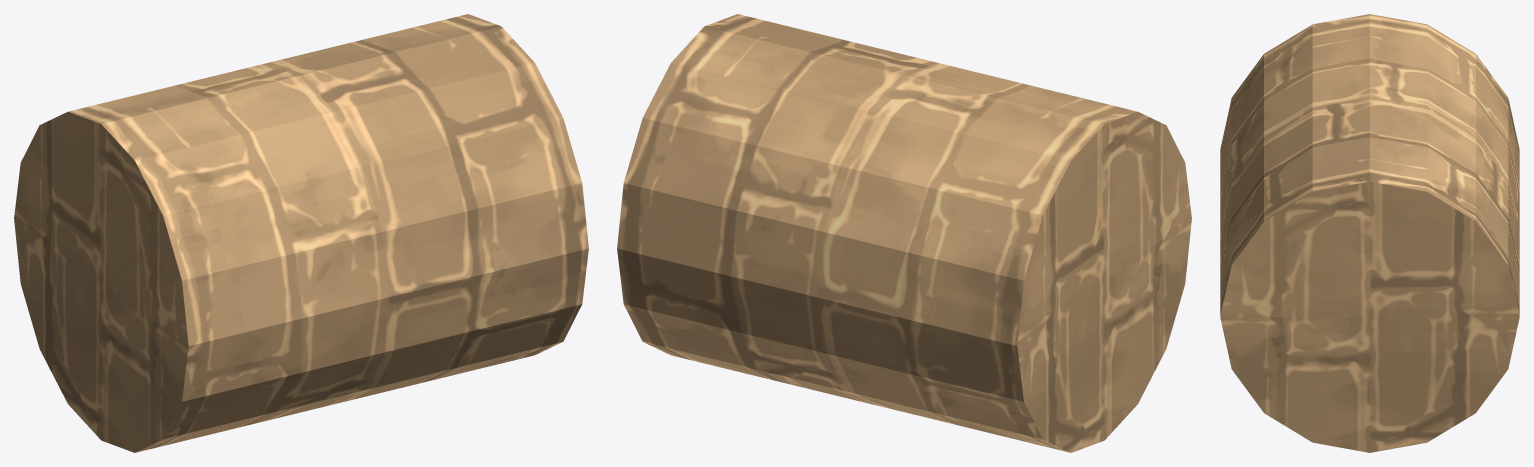
File: debris_drum.gltf
3 views of the same model, side by side, from view 1: azimuth 30°, elevation 25°; view 2: azimuth 150°, elevation 25°; view 3: azimuth 270°, elevation 25° (orthographic). The views are drawn at different scales.
Visible parts, largest first — view 1: debris_drum; view 2: debris_drum; view 3: debris_drum.
Boxes of the visible parts, x1,y1,x2,y2 form: debris_drum: (14,14,588,452); debris_drum: (617,14,1191,452); debris_drum: (1220,14,1519,452).
Size of the model in its own units: 0.9 by 0.68 by 0.68.
1 material, 1 textured.
